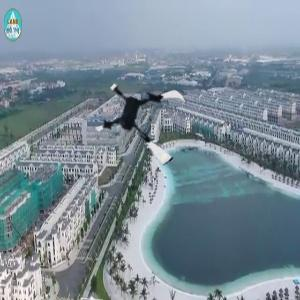drone: (98, 75, 193, 170)
